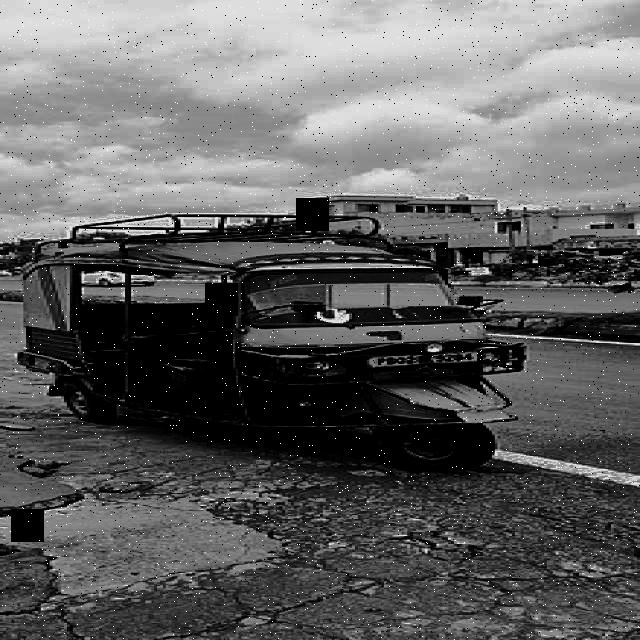Auto-Rickshaw: (17, 222, 553, 469)
